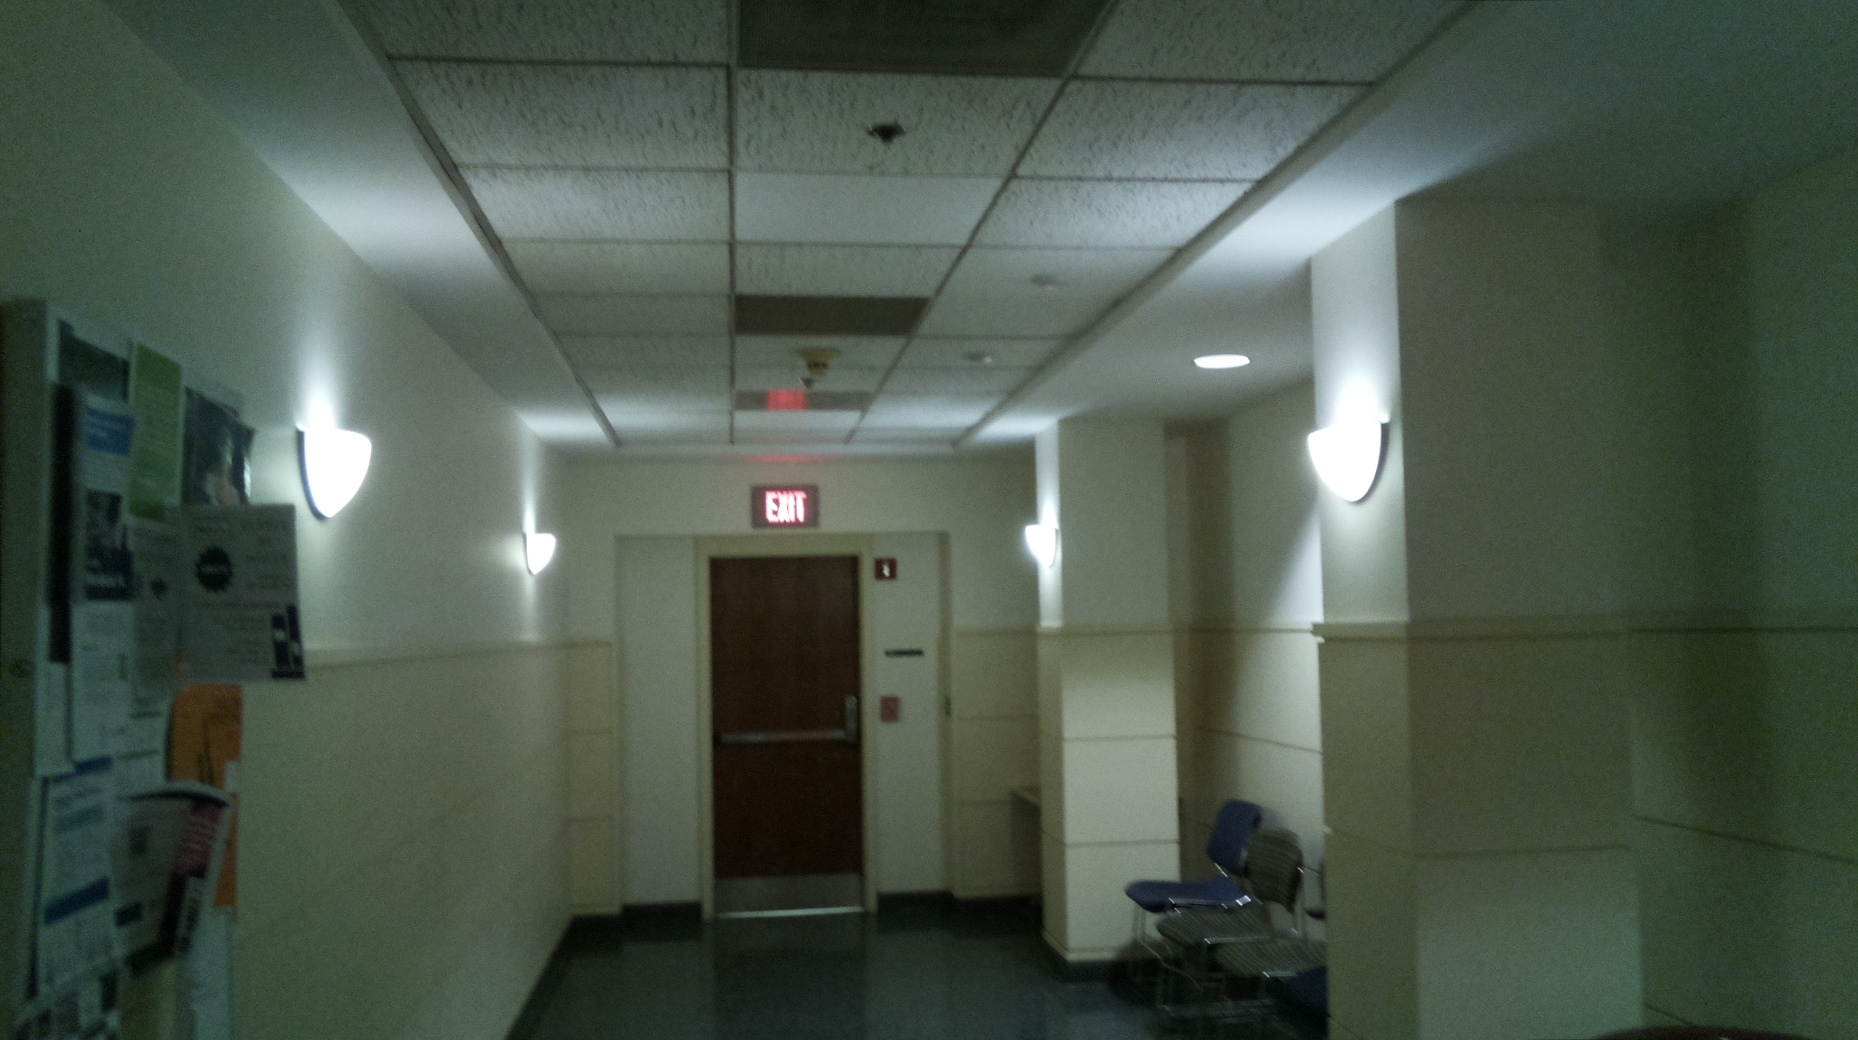exit sign: (747, 480, 822, 533)
